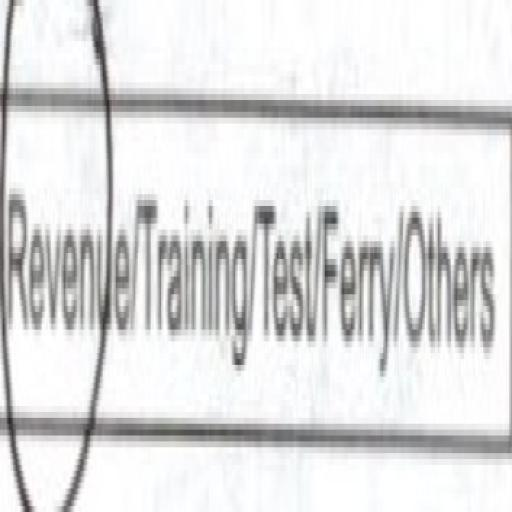check: (0, 0, 133, 506)
